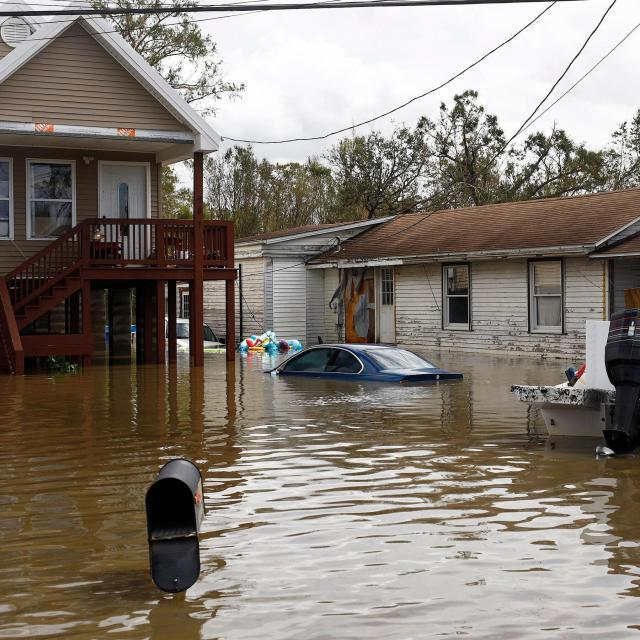water: (3, 347, 638, 638)
